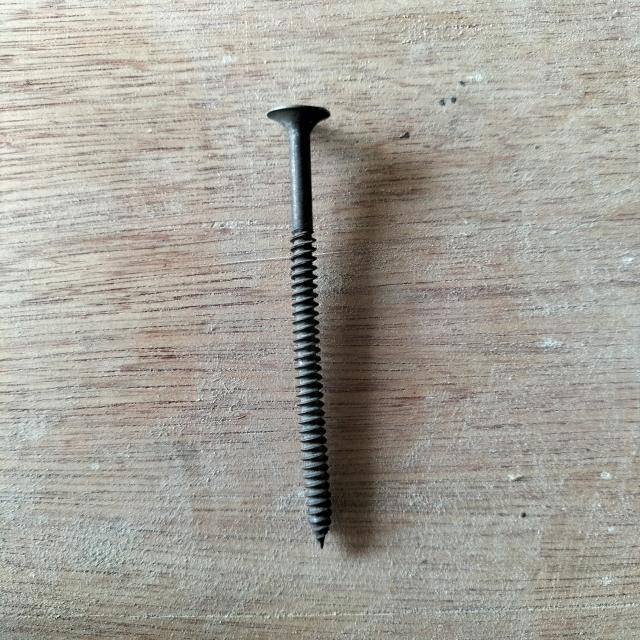screw: (266, 105, 332, 550)
